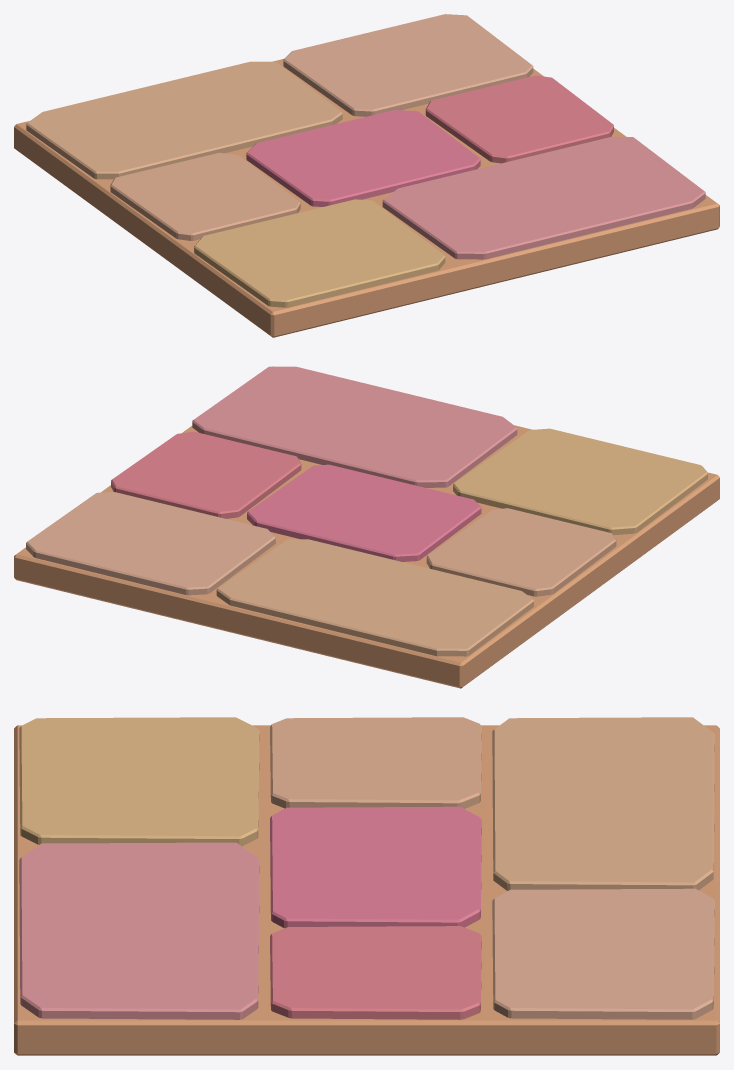
The model's file is WC_RIVER_Ground_Stone_B.glb.
The picture shows the model from 3 angles, top to bottom: view 1: azimuth 30°, elevation 25°; view 2: azimuth 150°, elevation 25°; view 3: azimuth 270°, elevation 25°; orthographic projection. The views are drawn at different scales.
Parts seen in each view (by area): view 1: WC_RIVER_Ground_Stone_B_RenderMesh; view 2: WC_RIVER_Ground_Stone_B_RenderMesh; view 3: WC_RIVER_Ground_Stone_B_RenderMesh.
Boxes of the visible parts, box(x1,y1,x2,y2) form: WC_RIVER_Ground_Stone_B_RenderMesh: box(14, 14, 719, 337); WC_RIVER_Ground_Stone_B_RenderMesh: box(14, 366, 719, 688); WC_RIVER_Ground_Stone_B_RenderMesh: box(14, 717, 719, 1055).
Size of the model in its own units: 2 by 0.14 by 2.
